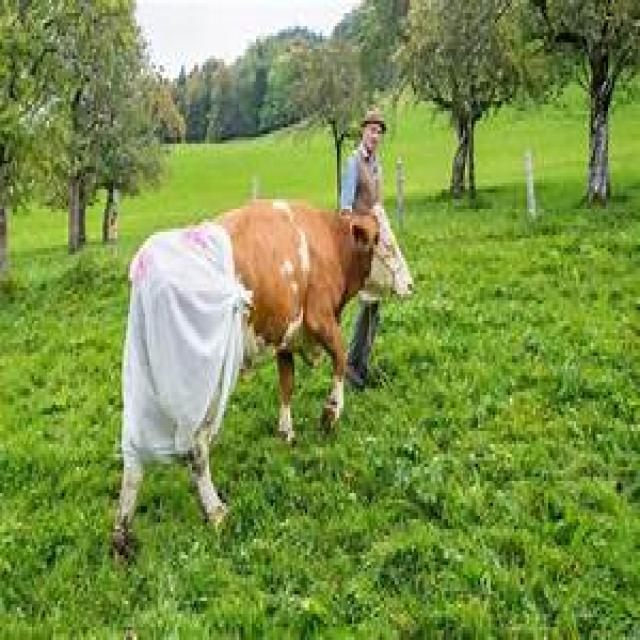cow: (113, 189, 416, 562)
